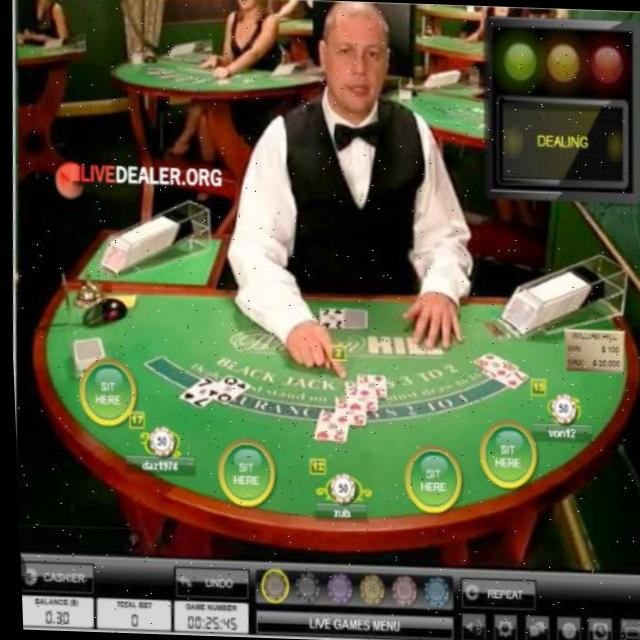Card-2: (310, 408, 344, 441), (343, 382, 373, 409), (317, 307, 341, 327)
Card-3: (354, 373, 383, 397)
Card-5: (331, 397, 362, 425)
Card-7: (175, 375, 214, 408), (479, 368, 526, 389)
Card-8: (471, 352, 515, 379)
Card-Q: (201, 374, 248, 404)
